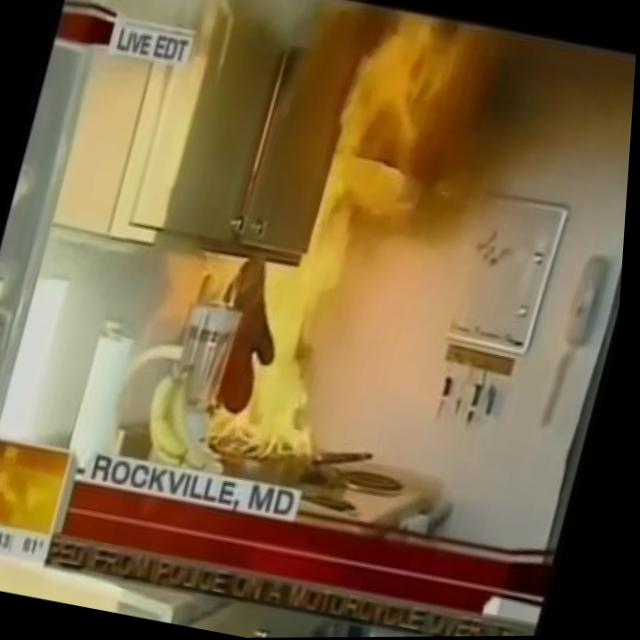fire: (202, 0, 470, 480)
